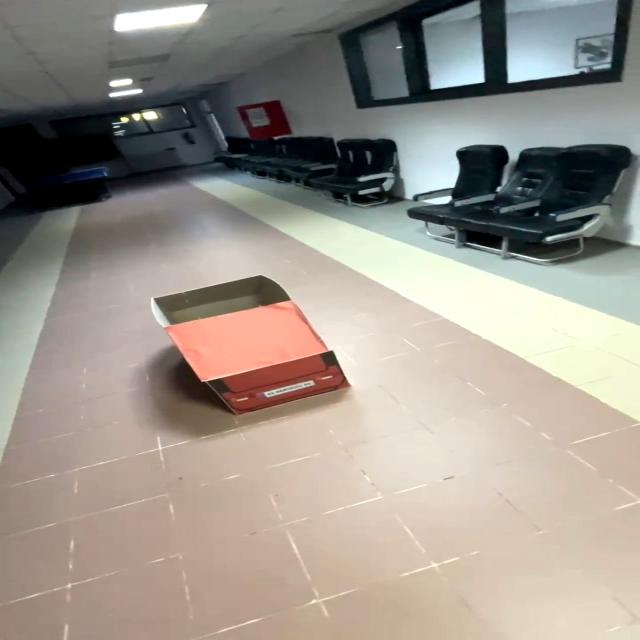red_car: (110, 265, 409, 447)
